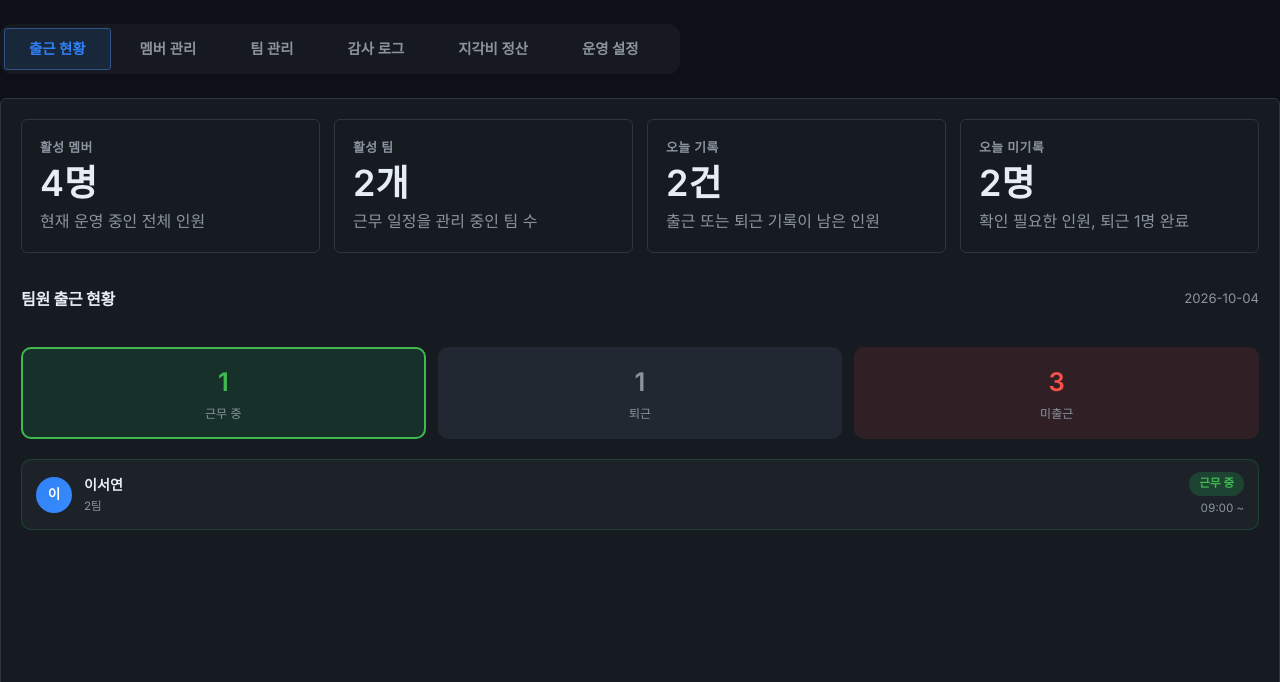
Test case: Admin 페이지 › 지각비 정산 탭에서 멤버 납부 상태를 변경할 수 있다
Click the button "지각비 정산": (493, 49) [433, 28, 553, 70]
(page scrolled)
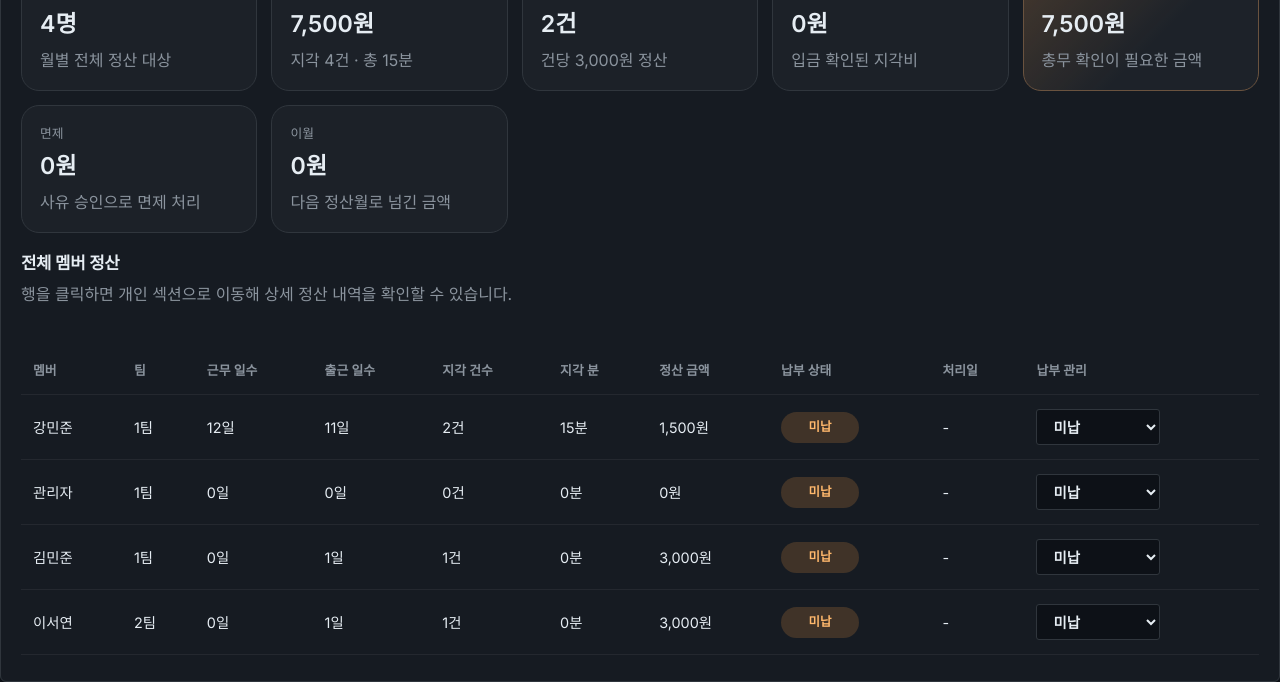
Select "납부 완료" in the dropdown named "강민준 납부 상태": (1098, 427) [1036, 409, 1160, 445]
(page scrolled)
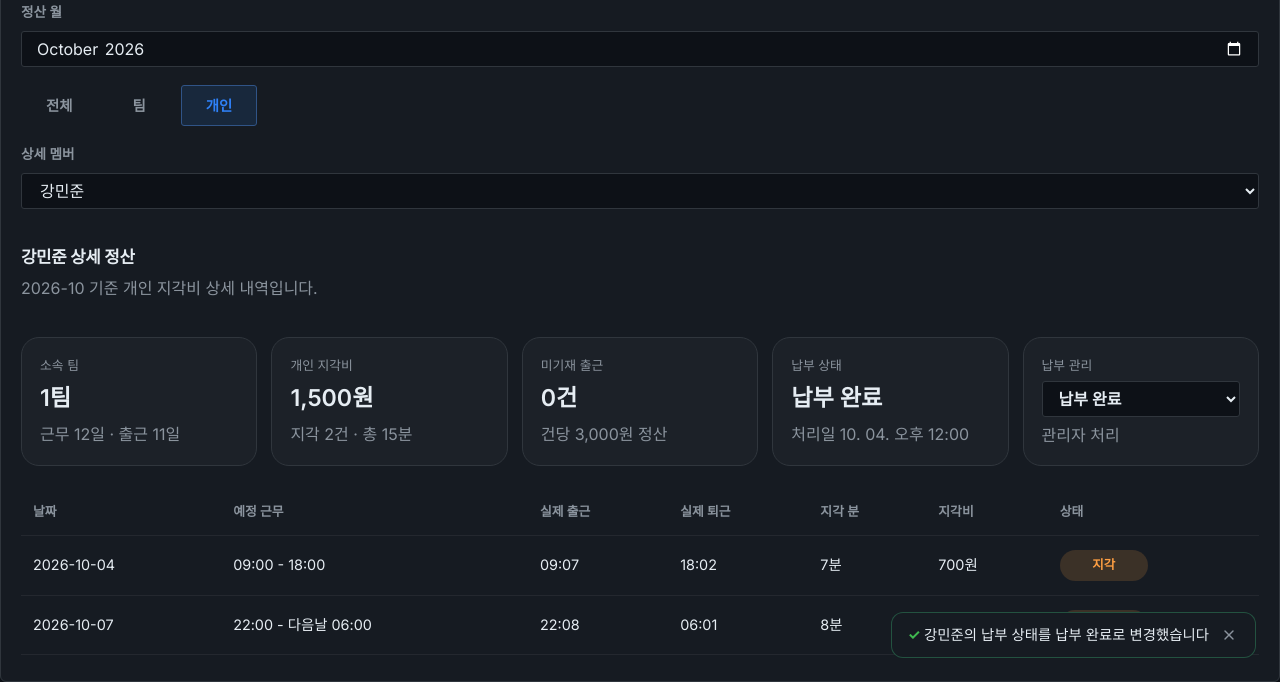
Check: the text "강민준의 납부 상태를 납부 완료로 변경했습니다" is shown, box [908, 625, 1209, 645]
Check: the dropdown named "강민준 납부 상태" shows "납부 완료", box [1042, 381, 1240, 417]
Check: the text "납부 완료" is shown, box [791, 384, 882, 412]
